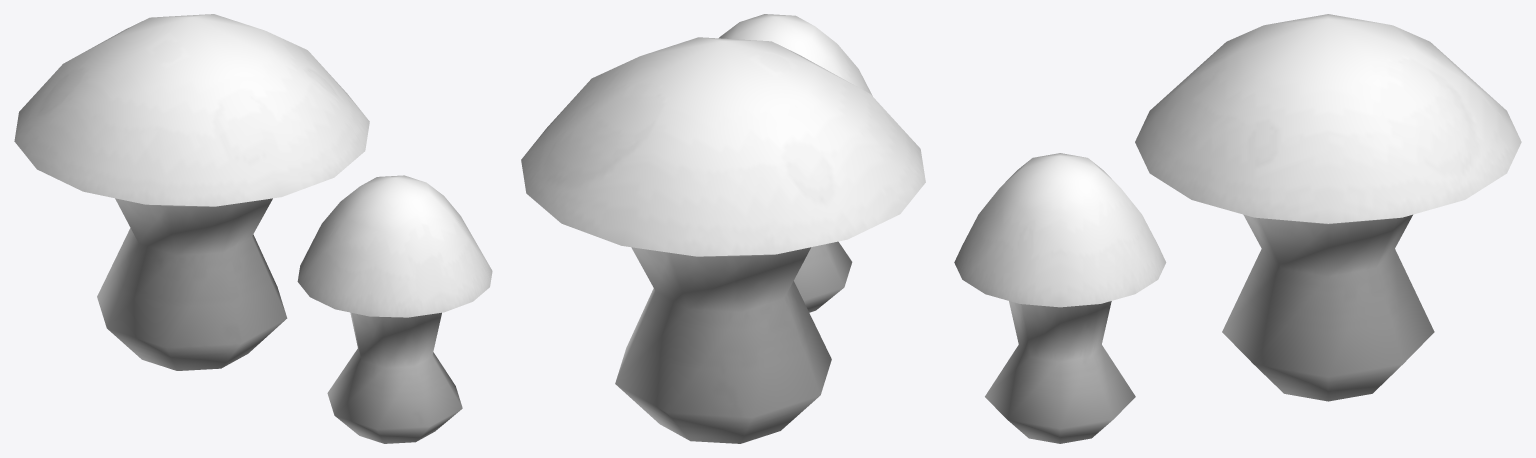
File: FloorDeco1B-005_02_05_1296.fbx
The picture shows the model from 3 angles, left to right: view 1: azimuth 30°, elevation 25°; view 2: azimuth 150°, elevation 25°; view 3: azimuth 270°, elevation 25°; orthographic projection. The views are drawn at different scales.
Visible parts, largest first — view 1: Shroom1 (1), Shroom3 (1); view 2: Shroom1 (1), Shroom3 (1); view 3: Shroom1 (1), Shroom3 (1).
Boxes of the visible parts, x1=… form: Shroom1 (1): x1=14, y1=14, x2=369, y2=370; Shroom3 (1): x1=297, y1=175, x2=492, y2=443; Shroom1 (1): x1=521, y1=37, x2=925, y2=443; Shroom3 (1): x1=719, y1=14, x2=872, y2=312; Shroom1 (1): x1=1135, y1=14, x2=1521, y2=401; Shroom3 (1): x1=954, y1=153, x2=1166, y2=443.
Bounding box in the file's own units: 0.7416 × 0.7505 × 1.06.
